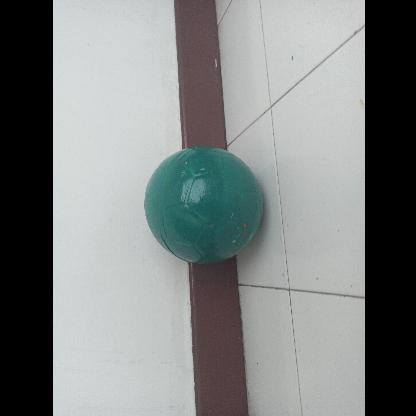green_ball: (142, 148, 258, 264)
